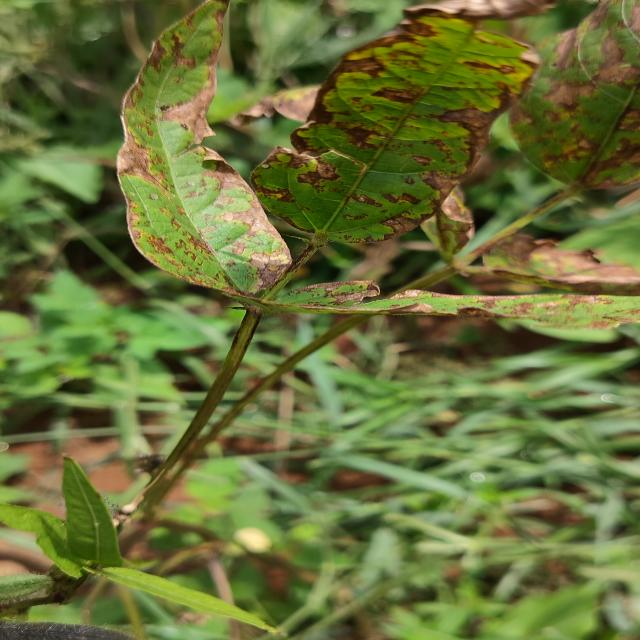Black gram_leaf spot: (236, 0, 538, 254), (114, 0, 290, 306), (508, 0, 640, 216), (250, 280, 640, 344), (449, 225, 640, 308)
